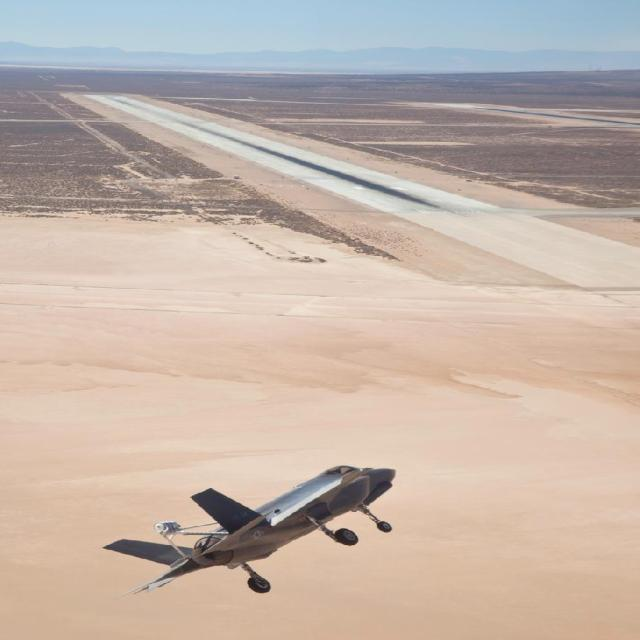MIL_Plane: (101, 465, 397, 597)
